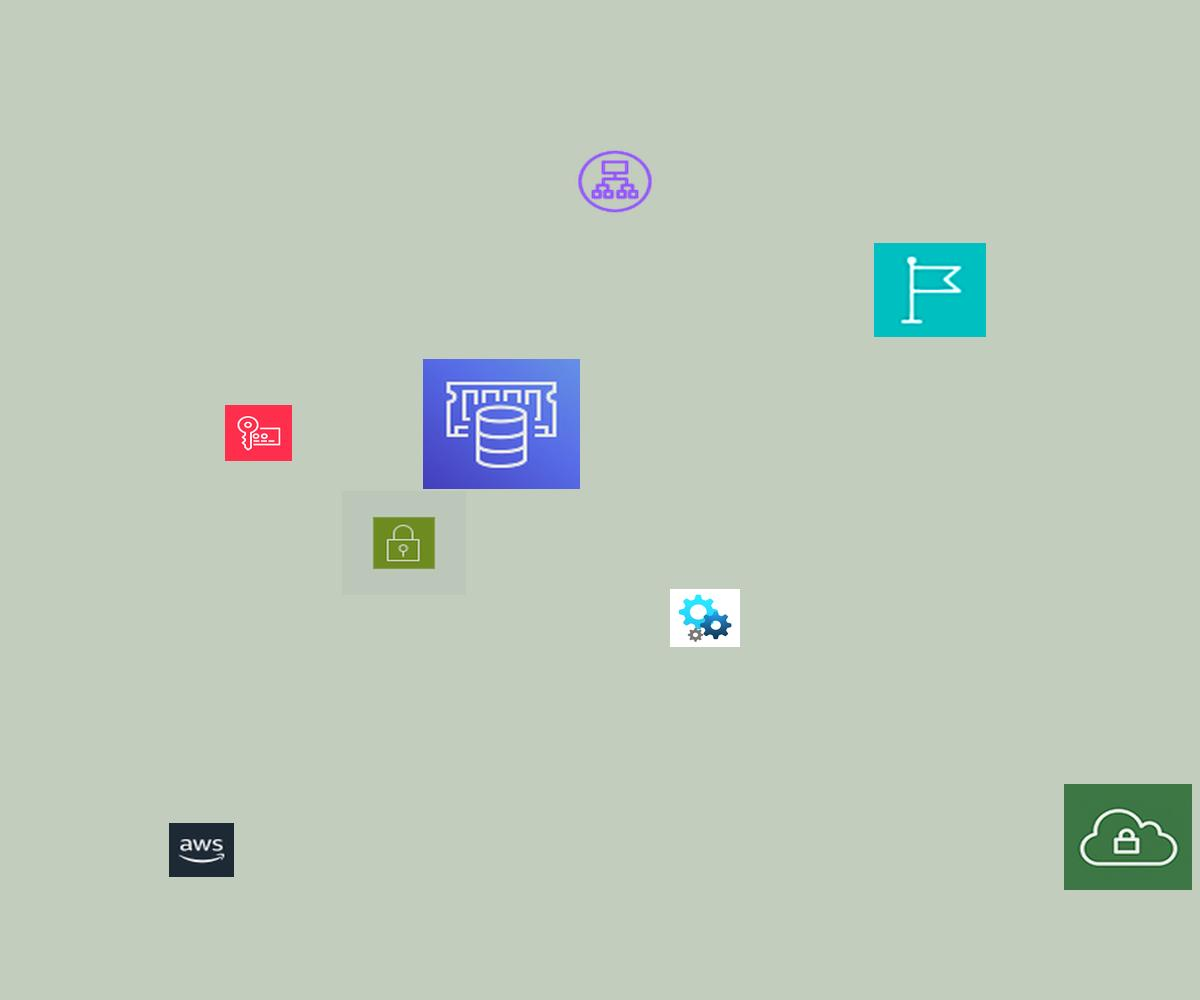AWS-Cloud-logo: (169, 823, 234, 877)
AWS-ElastiCache: (423, 359, 580, 489)
AWS-Key-Management-Service: (225, 405, 292, 461)
AWS-Private_vpc: (1064, 784, 1192, 890)
AWS-Public-subnet: (342, 491, 466, 595)
AWS-Region: (874, 243, 986, 337)
AWS-Res_Elastic-Load-Balancing_Application-Load-Balancer: (575, 148, 655, 215)
Azure_api: (670, 589, 740, 647)
